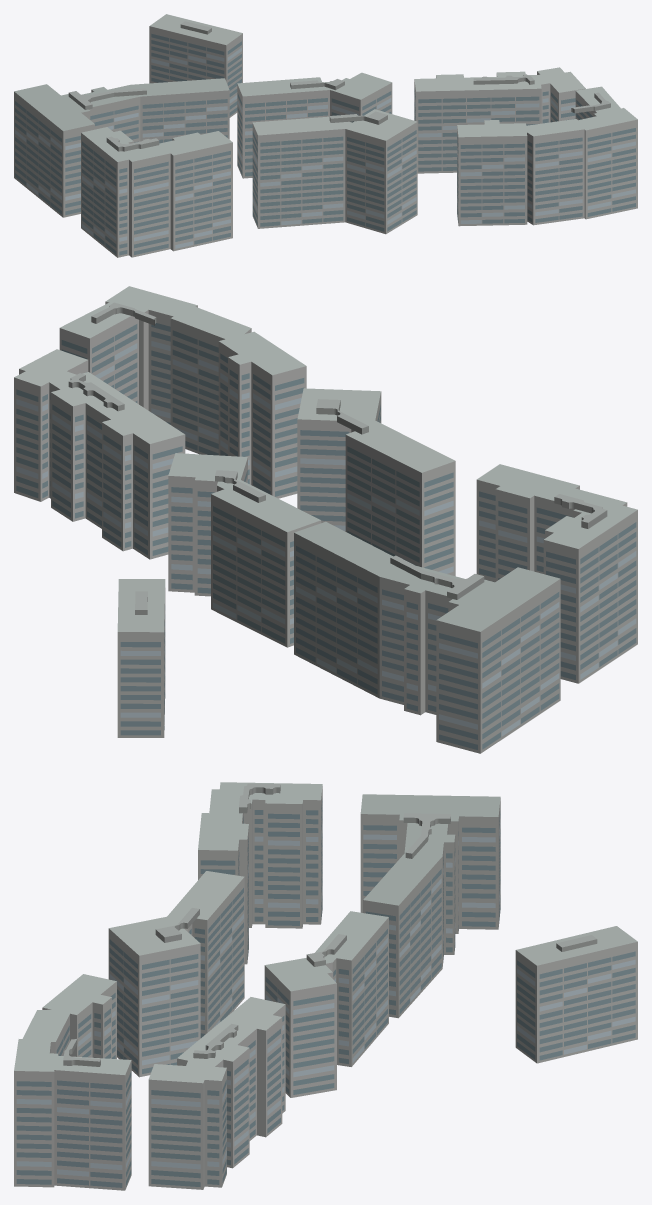
Rendered from apt-a15721009.glb.
3 views of the same model, one above another, from view 1: azimuth 30°, elevation 25°; view 2: azimuth 150°, elevation 25°; view 3: azimuth 270°, elevation 25° (orthographic). The views are drawn at different scales.
Parts seen in each view (by area): view 1: apt-a15721009; view 2: apt-a15721009; view 3: apt-a15721009.
Boxes of the visible parts, bbox=[...] form: apt-a15721009: bbox=[14, 14, 637, 257]; apt-a15721009: bbox=[14, 286, 637, 753]; apt-a15721009: bbox=[14, 782, 637, 1190].
Size of the model in its own units: 196 by 42 by 182.
